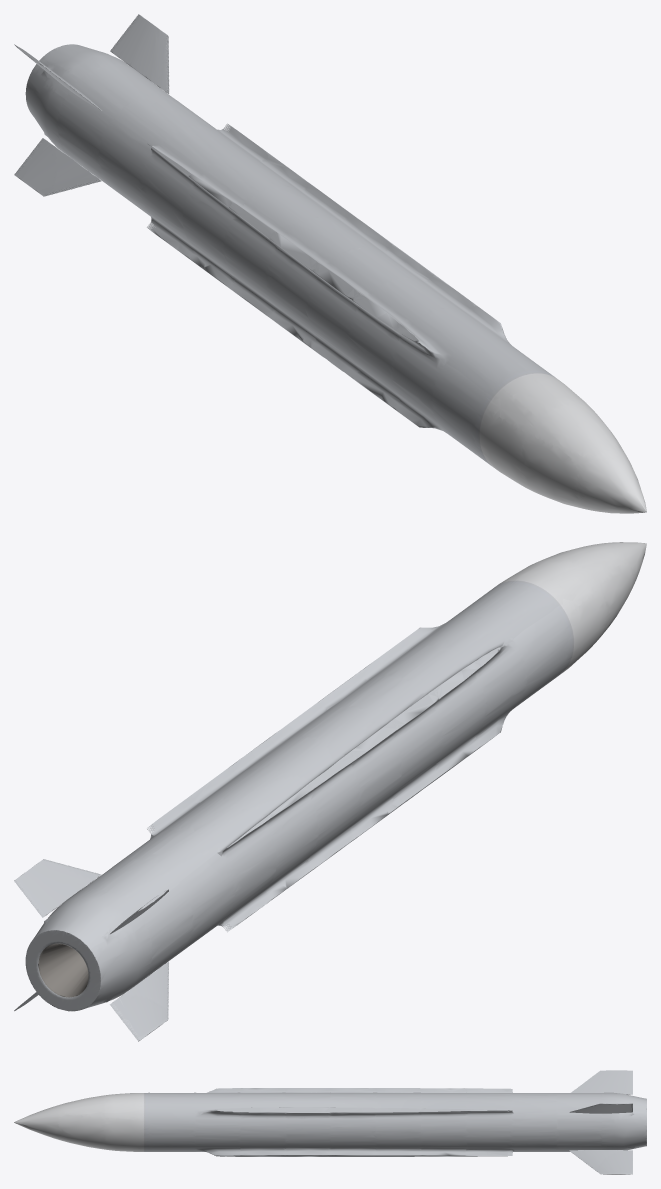
3 renders of one model, top to bottom at view 1: azimuth 30°, elevation 25°; view 2: azimuth 150°, elevation 25°; view 3: azimuth 270°, elevation 25°, orthographic. The views are drawn at different scales.
Visible parts, largest first — view 1: airframe, fsim:fin:3899119507:1|elevator+aileron:-1+rudder:1@-20,20, fsim:fin:3419906077:1|elevator+aileron:1+rudder:1@-20,20; view 2: airframe, fsim:fin:3899119507:1|elevator+aileron:-1+rudder:1@-20,20, fsim:fin:3419906077:1|elevator+aileron:1+rudder:1@-20,20; view 3: airframe, fsim:fin:1916934482:1|elevator+aileron:1+rudder:-1@-20,20, fsim:fin:453677541:1|elevator+aileron:-1+rudder:-1@-20,20, fsim:fin:3419906077:1|elevator+aileron:1+rudder:1@-20,20.
Part boxes in pixels (x1,y1,x2,y2): airframe: [25, 44, 646, 513]; fsim:fin:3899119507:1|elevator+aileron:-1+rudder:1@-20,20: [14, 138, 101, 196]; fsim:fin:3419906077:1|elevator+aileron:1+rudder:1@-20,20: [110, 14, 169, 93]; airframe: [25, 542, 646, 1011]; fsim:fin:3899119507:1|elevator+aileron:-1+rudder:1@-20,20: [110, 961, 168, 1041]; fsim:fin:3419906077:1|elevator+aileron:1+rudder:1@-20,20: [14, 859, 101, 917]; airframe: [14, 1088, 646, 1156]; fsim:fin:1916934482:1|elevator+aileron:1+rudder:-1@-20,20: [569, 1150, 632, 1174]; fsim:fin:453677541:1|elevator+aileron:-1+rudder:-1@-20,20: [571, 1070, 632, 1094]; fsim:fin:3419906077:1|elevator+aileron:1+rudder:1@-20,20: [569, 1103, 632, 1113].
Size of the model in its own units: 0.5075 by 0.5078 by 4.06.
3 materials, 1 textured.
